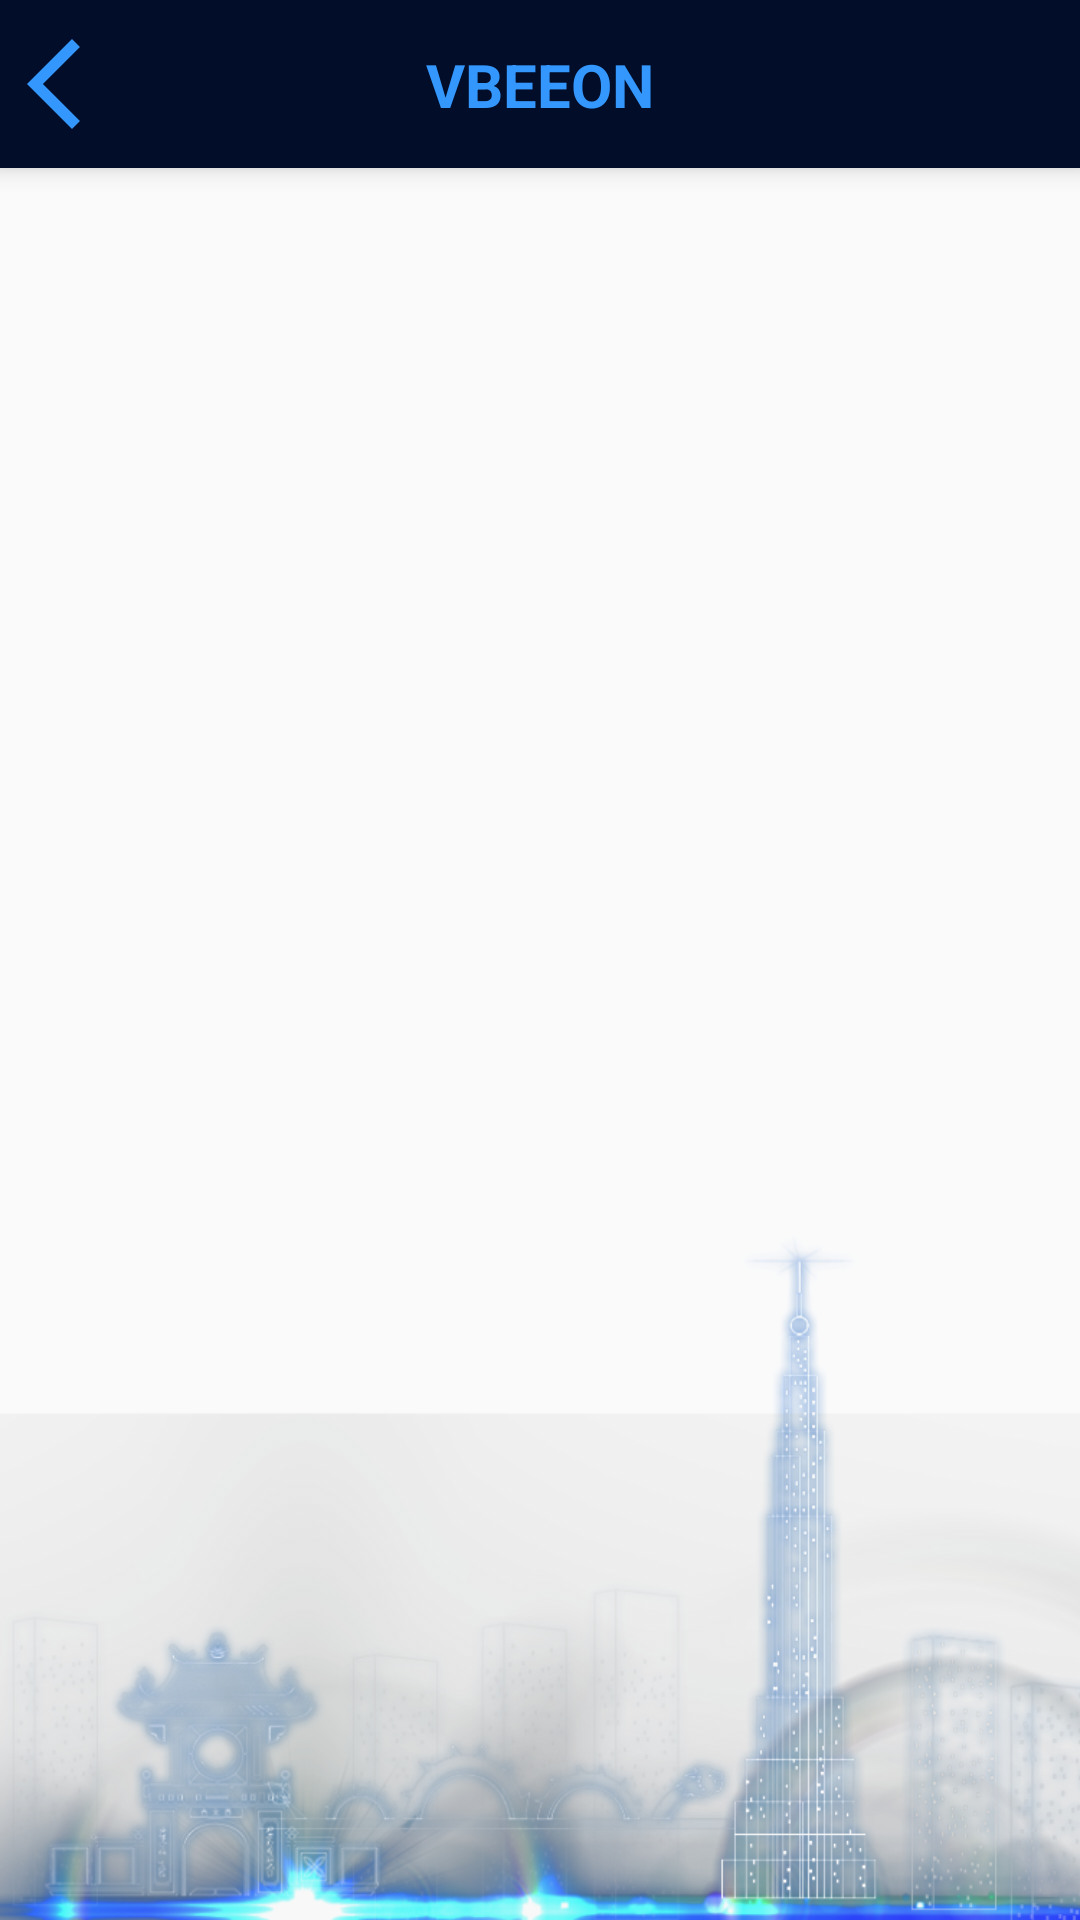

Screen size 1080×1920. Icon name, then its center in pixels as point (x, y):
back: point (53, 84)
